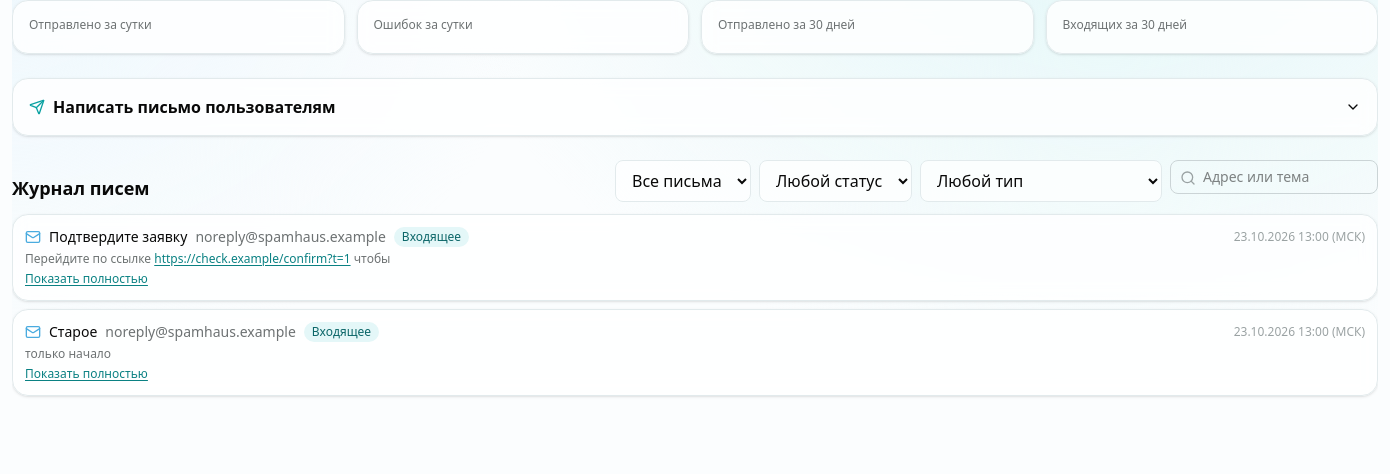
Scenario: MailTab: чтение письма › у старого письма без полного текста показывает начало и объясняет почему
Click the button "Показать полностью" below "только начало" at (86, 374), box [25,366,148,382]
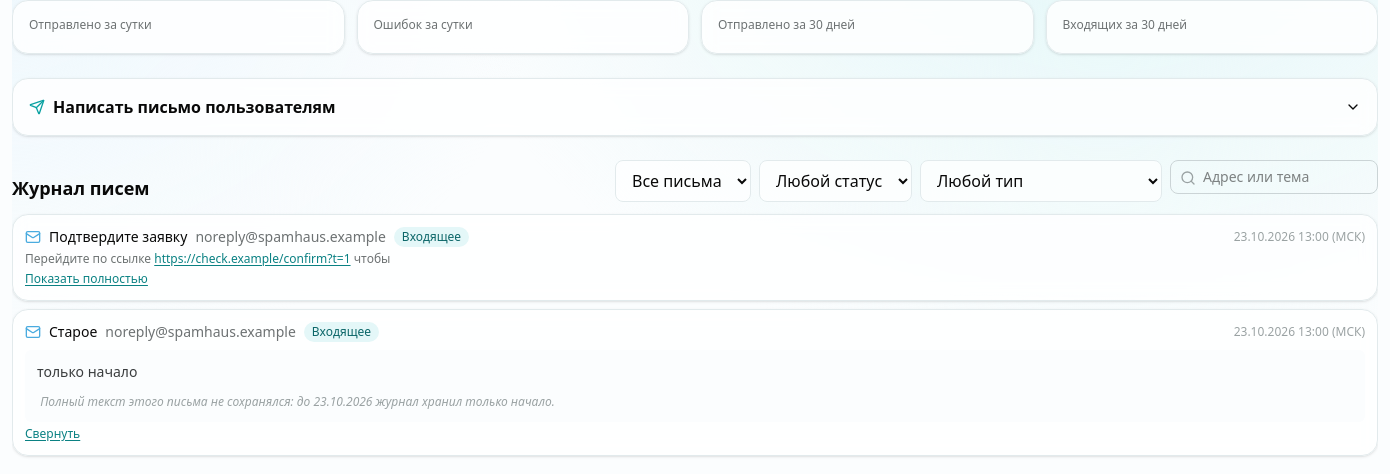
Now the element that starts with "только начало" is shown, box [37,362,137,381]
Now the element with class "surface-card" shows "Полный текст этого письма не сохранялся", box [37,393,558,410]
